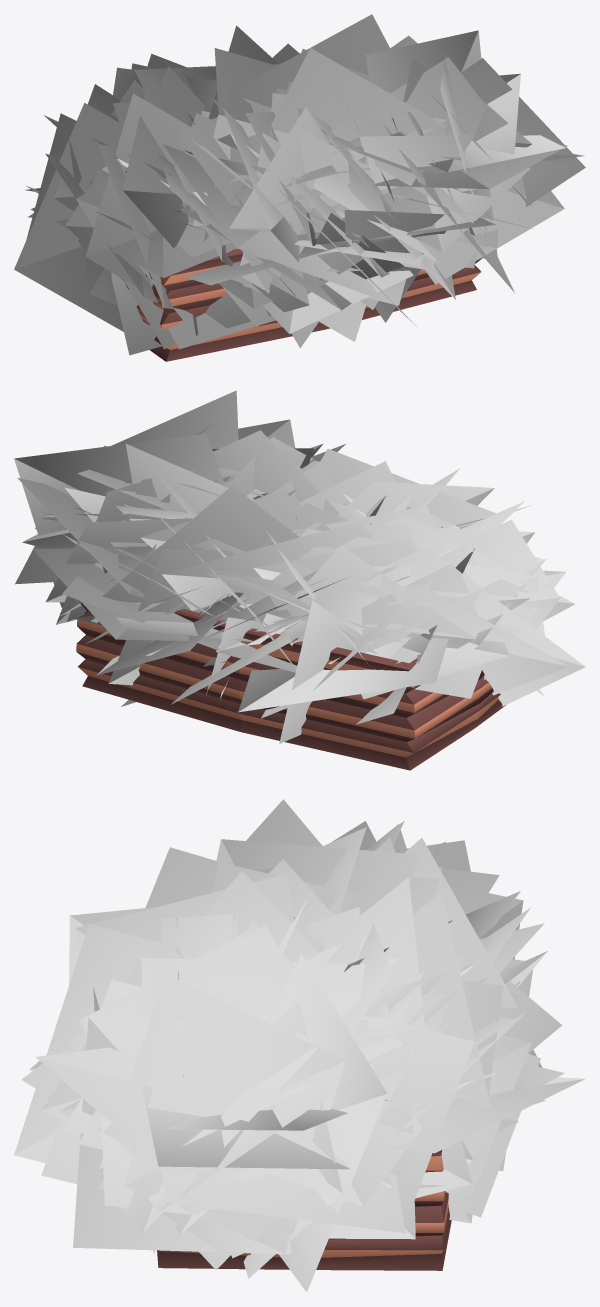
File: vaso-plantav3.fbx
3 views of the same model, one above another, from view 1: azimuth 30°, elevation 25°; view 2: azimuth 150°, elevation 25°; view 3: azimuth 270°, elevation 25° (orthographic). The views are drawn at different scales.
Parts seen in each view (by area): view 1: VasoPlanta2_LOD0; view 2: VasoPlanta2_LOD0; view 3: VasoPlanta2_LOD0.
Boxes of the visible parts, box(x1,y1,x2,y2) form: VasoPlanta2_LOD0: box(14, 14, 585, 361); VasoPlanta2_LOD0: box(14, 390, 585, 770); VasoPlanta2_LOD0: box(14, 799, 584, 1292).
Size of what is drawn, in the model's own units: 2.88 by 1.34 by 2.07.
